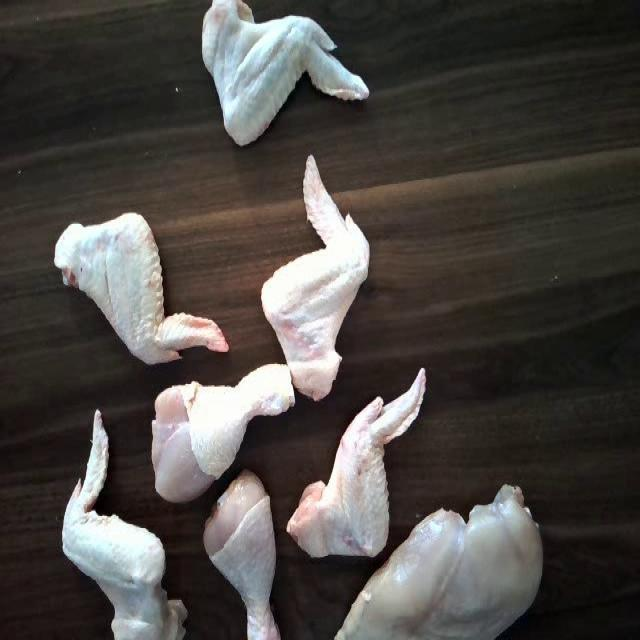breast: (338, 476, 552, 640)
leg: (140, 359, 298, 490), (201, 474, 284, 640)
wing: (48, 411, 181, 640), (188, 0, 374, 153), (54, 210, 224, 377), (292, 364, 424, 560), (272, 147, 374, 394)
